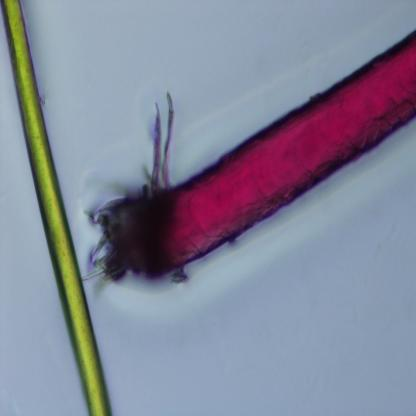Hair textile: (95, 28, 416, 282)
Microfibre: (0, 0, 112, 415)
